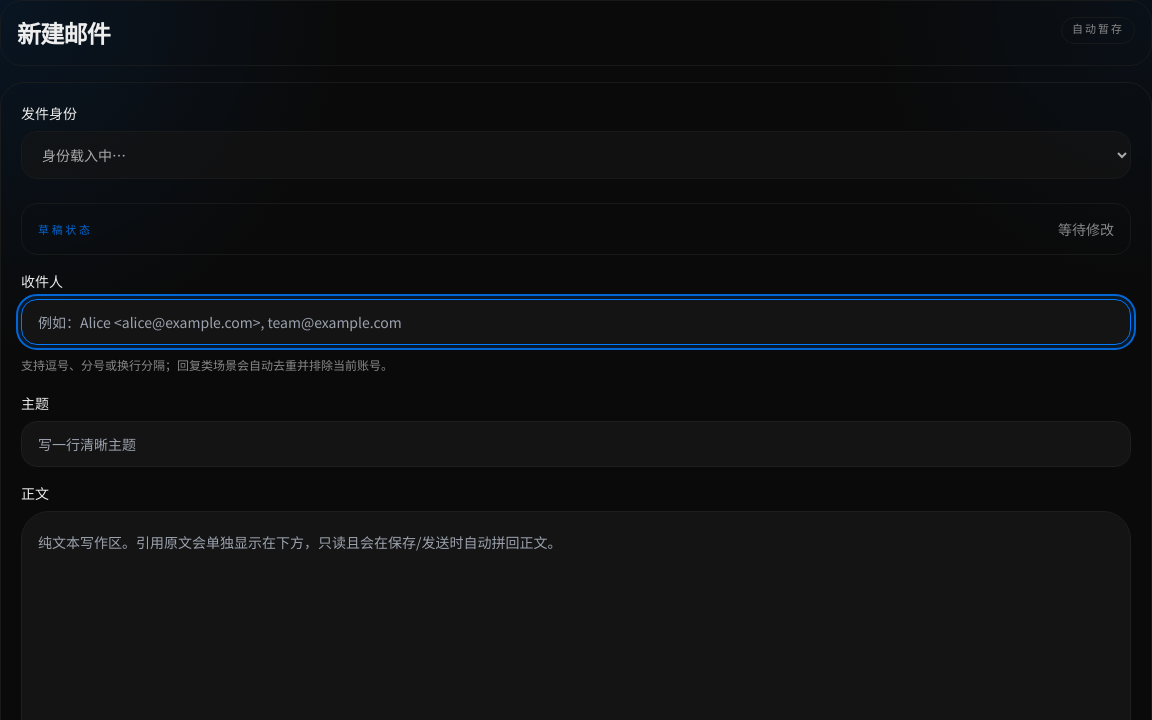
it: compose-core › keeps focus on subject during interval autosave for a fresh compose
In the field with test id "compose-to": (576, 322) [21, 299, 1131, 345], type "alice@example.com"
Wait 12000 ms
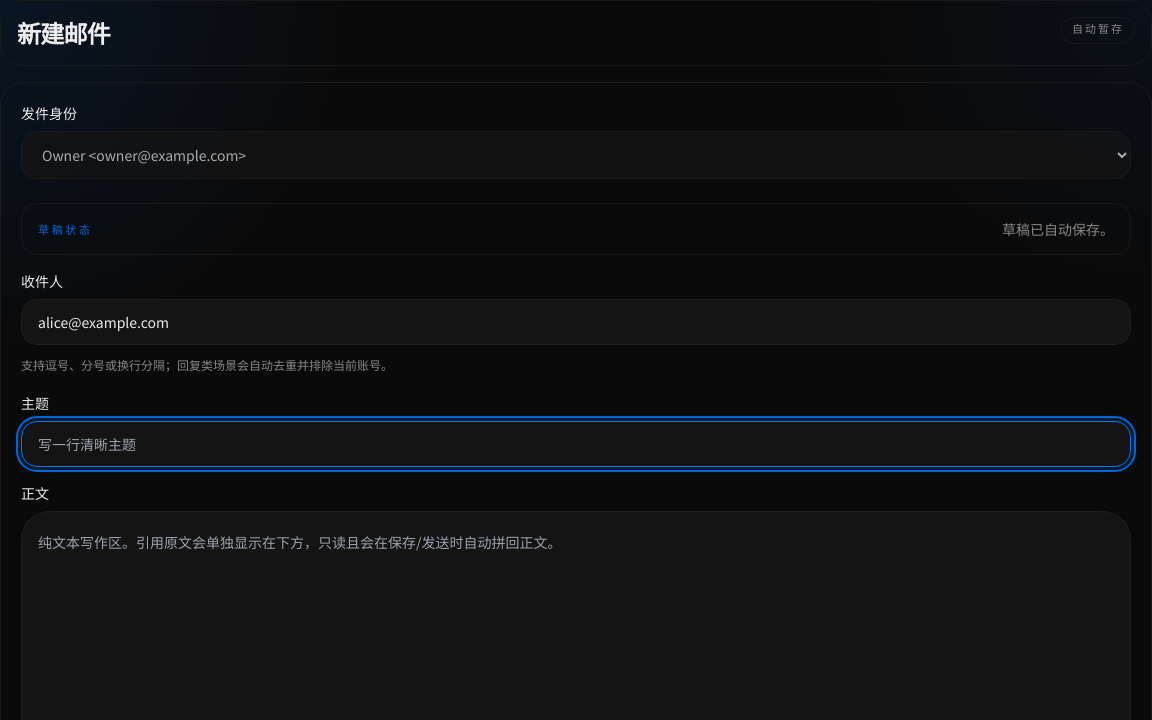
Expected: the text with test id "draft-status" reads "草稿已自动保存。", [1002, 219, 1114, 239]
